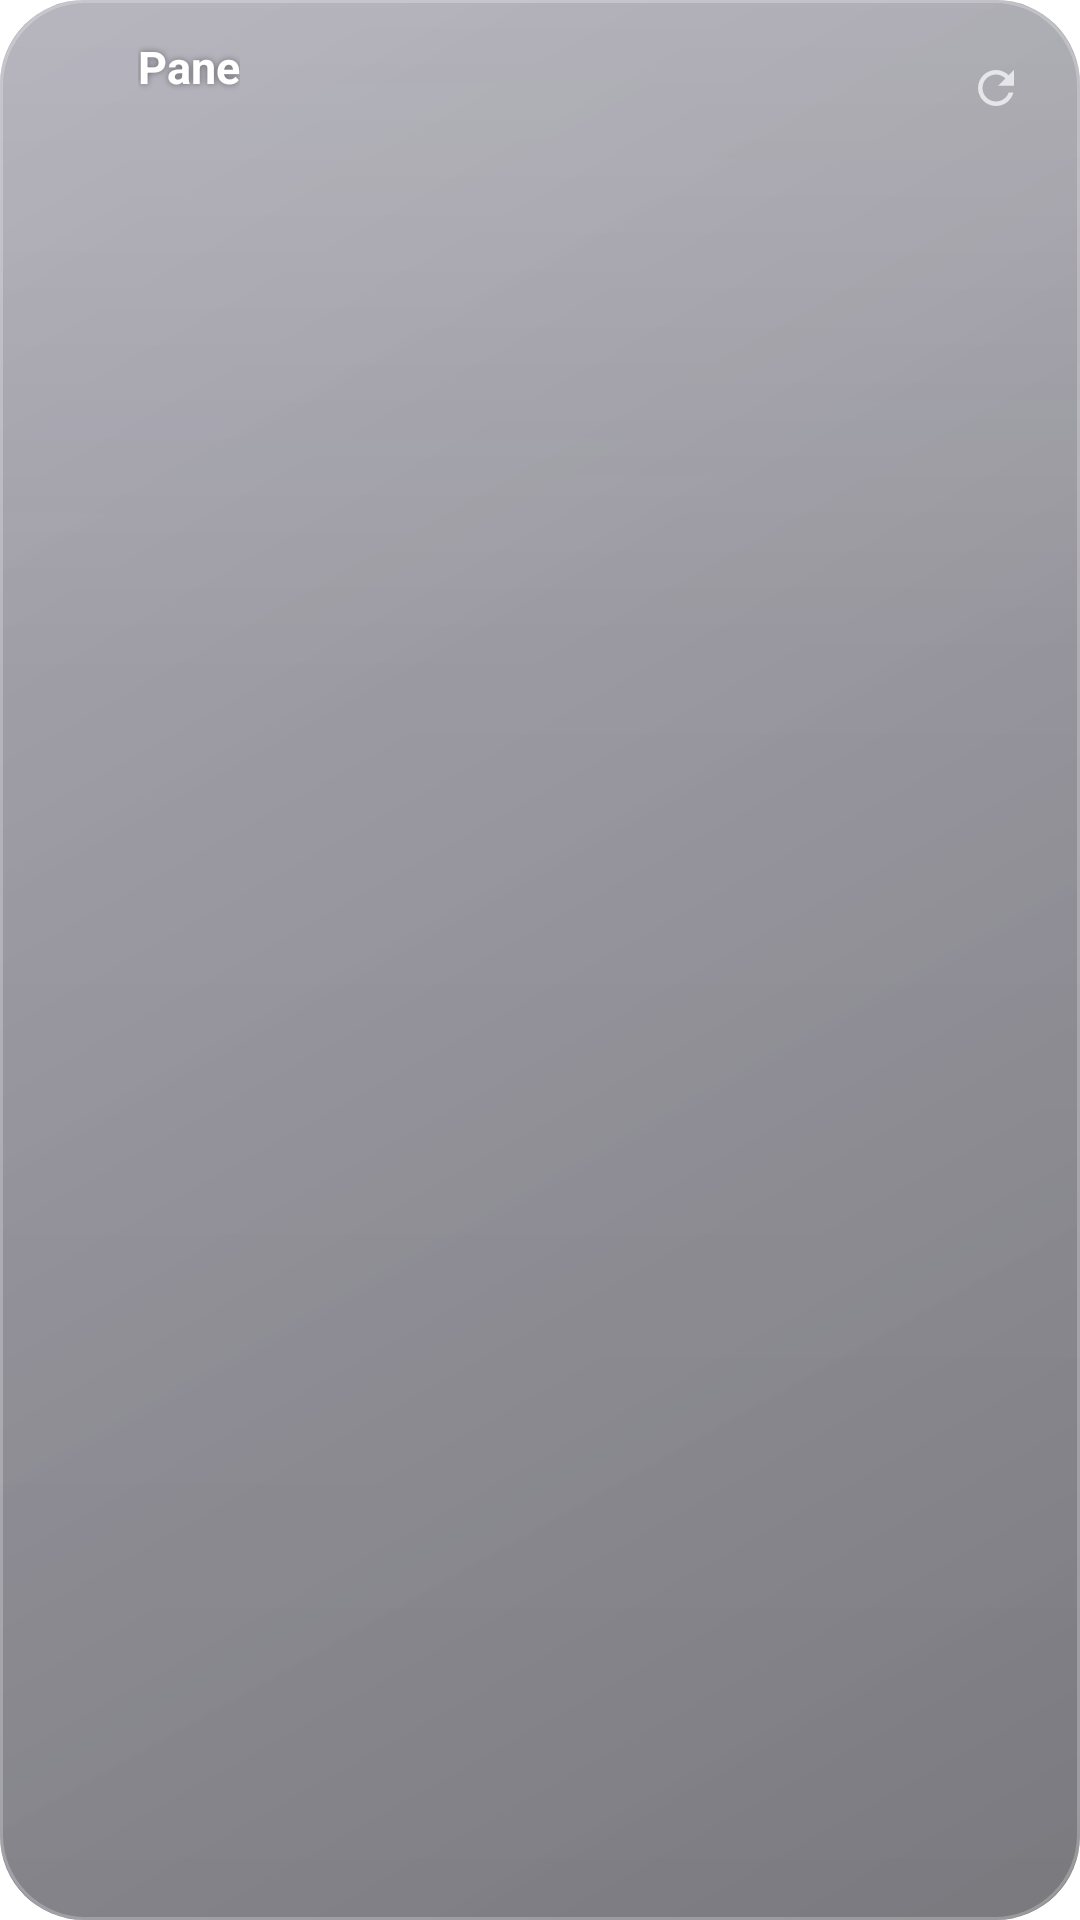

Icons on this 1080 × 1920 Android screen, each with its box as region(x1, y1, x2, y2):
Refresh: region(978, 70, 1014, 106)
